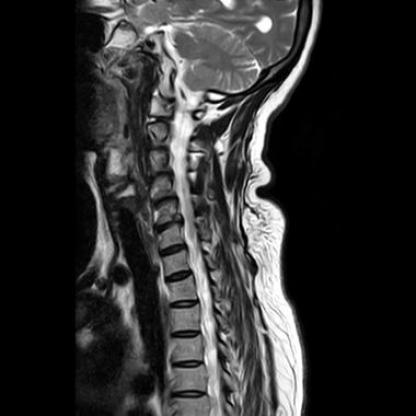Disc Bulgerotation: (153, 219, 184, 234)
Disc Protrusionrotation: (157, 241, 187, 259), (149, 194, 177, 210)
